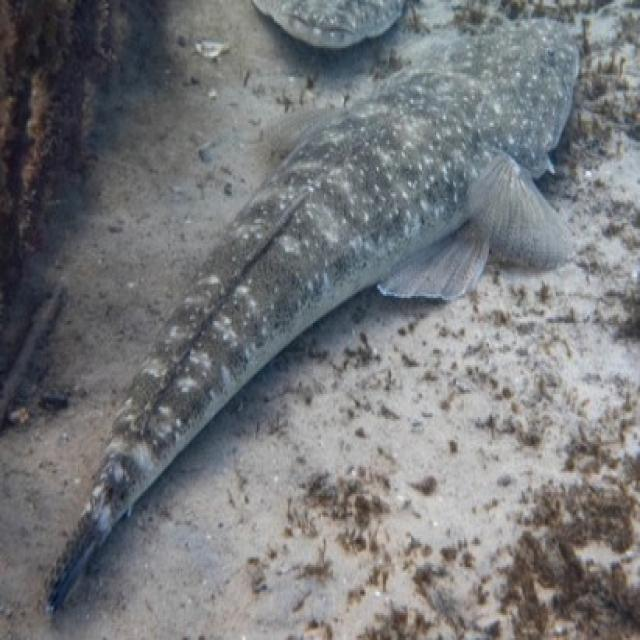Flathead: (33, 7, 594, 625)
